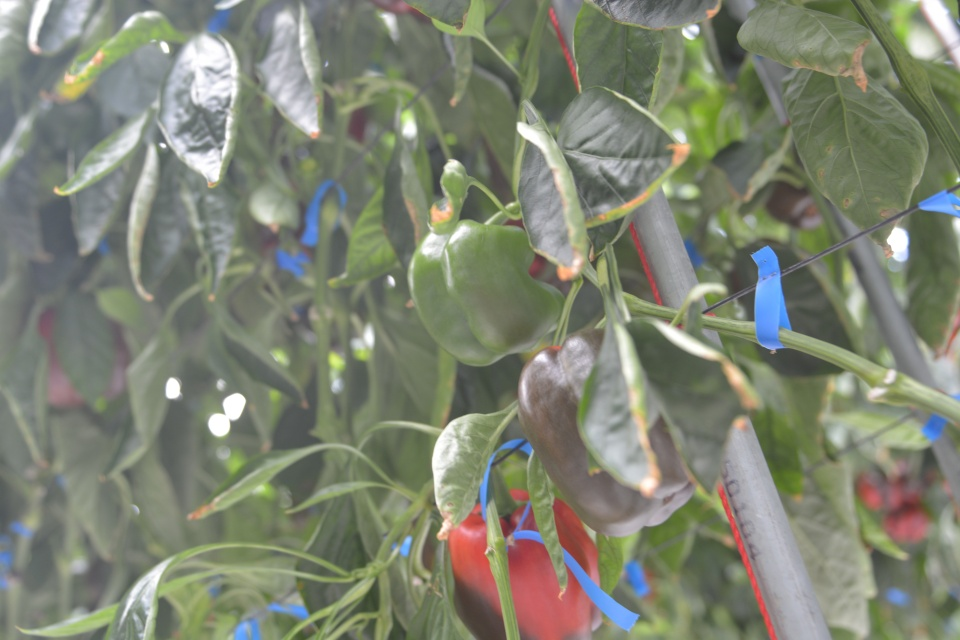fruit: (515, 329, 698, 538), (445, 485, 602, 640), (406, 218, 566, 367), (37, 306, 132, 416), (852, 457, 960, 548)
